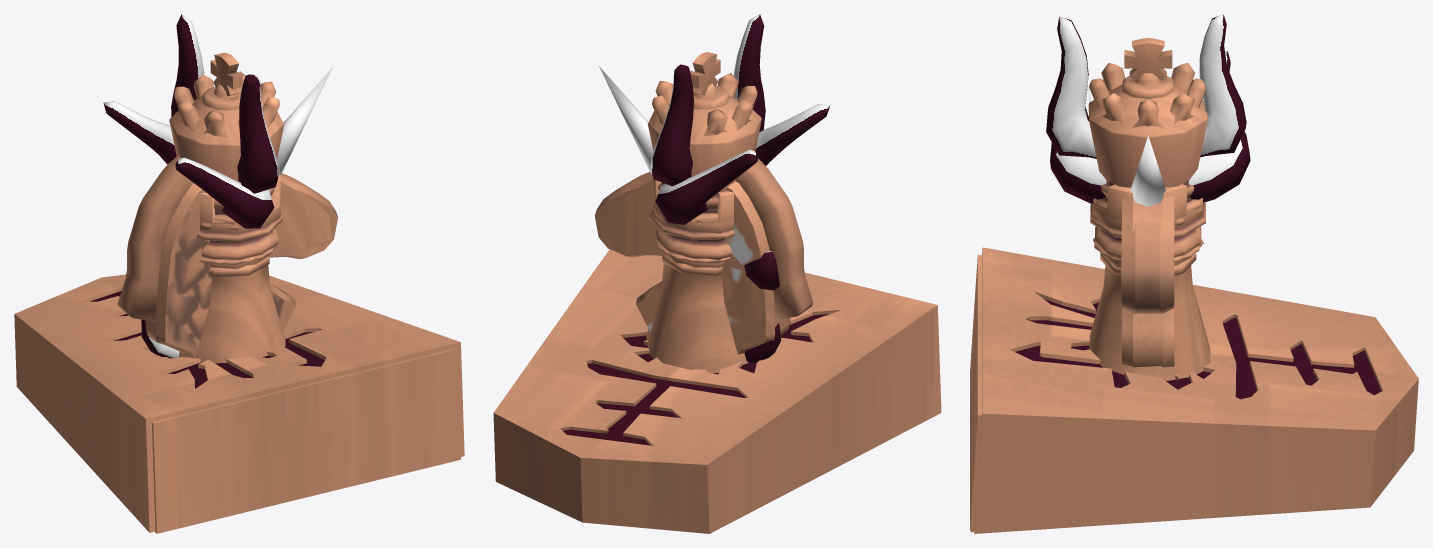
The model's file is ShogiPiecesGameReady.fbx.
The picture shows the model from 3 angles, left to right: view 1: azimuth 30°, elevation 25°; view 2: azimuth 150°, elevation 25°; view 3: azimuth 270°, elevation 25°; orthographic projection. The views are drawn at different scales.
Parts seen in each view (by area): view 1: shogiw_king, shogiw_bishop, LP_Dragon, LP_Rook, LP_Unicorn, LP_King, LP_Devil, LP_Knight, LP_Queen, shogiw_rook, LP_Pawn; view 2: shogiw_king, LP_Unicorn, LP_Rook, LP_Devil, LP_Dragon, LP_King, LP_Knight, LP_Queen, LP_Pawn; view 3: shogiw_king, LP_King, LP_Dragon, LP_Rook, LP_Devil, LP_Knight, LP_Queen, shogiw_bishop, LP_Unicorn.
Part boxes in pixels (bbox=[...]): shogiw_king: bbox=[14, 274, 464, 532]; shogiw_bishop: bbox=[152, 348, 460, 532]; LP_Dragon: bbox=[103, 101, 337, 358]; LP_Rook: bbox=[179, 169, 285, 363]; LP_Unicorn: bbox=[117, 66, 333, 322]; LP_King: bbox=[169, 52, 284, 241]; LP_Devil: bbox=[141, 14, 279, 358]; LP_Knight: bbox=[141, 173, 331, 358]; LP_Queen: bbox=[173, 71, 279, 224]; shogiw_rook: bbox=[155, 458, 460, 533]; LP_Pawn: bbox=[209, 256, 269, 277]; shogiw_king: bbox=[493, 249, 941, 533]; LP_Unicorn: bbox=[599, 66, 813, 346]; LP_Rook: bbox=[646, 179, 748, 373]; LP_Devil: bbox=[651, 14, 781, 362]; LP_Dragon: bbox=[594, 104, 830, 255]; LP_King: bbox=[647, 52, 761, 240]; LP_Knight: bbox=[602, 172, 790, 354]; LP_Queen: bbox=[652, 70, 757, 222]; LP_Pawn: bbox=[662, 253, 722, 275]; shogiw_king: bbox=[974, 247, 1418, 533]; LP_King: bbox=[1088, 37, 1207, 237]; LP_Dragon: bbox=[1050, 51, 1250, 312]; LP_Rook: bbox=[1089, 184, 1210, 381]; LP_Devil: bbox=[1046, 14, 1246, 262]; LP_Knight: bbox=[1121, 187, 1174, 367]; LP_Queen: bbox=[1089, 63, 1205, 210]; shogiw_bishop: bbox=[970, 254, 982, 530]; LP_Unicorn: bbox=[1122, 136, 1174, 303].
Bounding box in the file's own units: 12.58 × 15.27 × 14.35.
